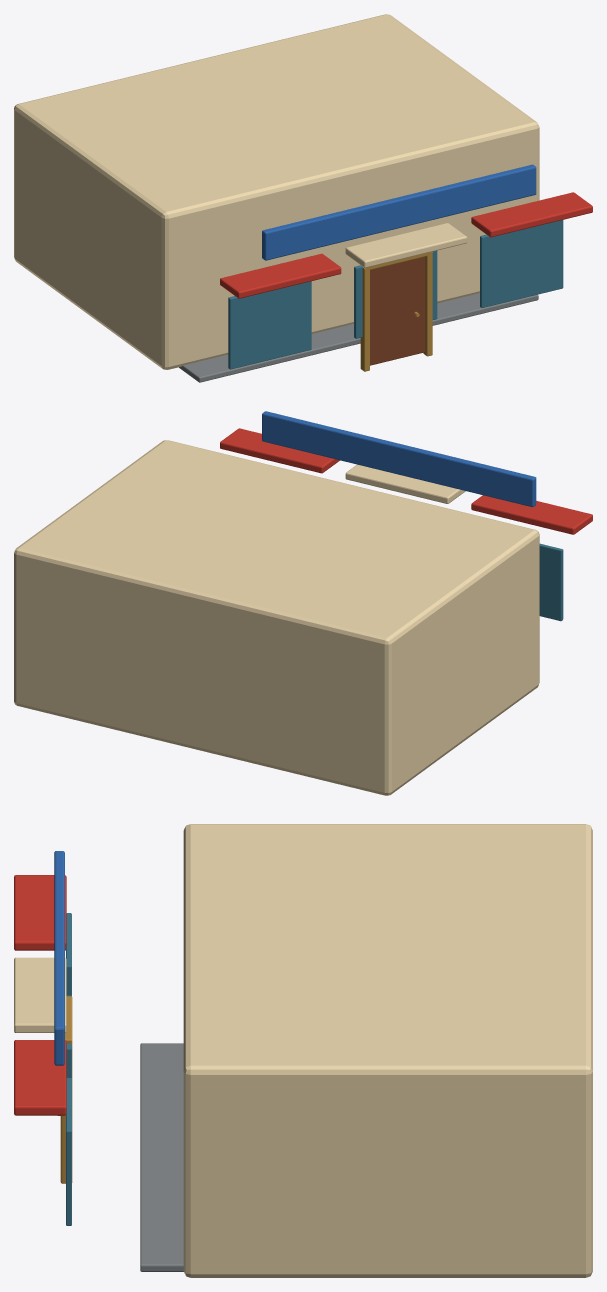
The model's file is neighborhood_convenience_store_a.glb.
3 views of the same model, one above another, from view 1: azimuth 30°, elevation 25°; view 2: azimuth 150°, elevation 25°; view 3: azimuth 270°, elevation 25° (orthographic). The views are drawn at different scales.
Parts seen in each view (by area): view 1: SET_Building, SET_SignBand, SET_Window_0, SET_Window_2, SET_Business_Door, SET_InteriorFloor, SET_Awning_1, SET_Awning_2, SET_Awning_0, SET_Window_1, SET_Business_Jamb_L, SET_Business_Jamb_R; view 2: SET_Building, SET_SignBand, SET_Awning_0, SET_Awning_2, SET_Awning_1, SET_Window_0; view 3: SET_Building, SET_InteriorFloor, SET_Awning_2, SET_Awning_0, SET_Awning_1, SET_SignBand, SET_Window_2.
Part boxes in pixels (x1,y1,x2,y2): SET_Building: (14,14,539,369); SET_SignBand: (262,164,536,260); SET_Window_0: (228,281,311,369); SET_Window_2: (480,220,563,307); SET_Business_Door: (370,257,425,365); SET_InteriorFloor: (179,293,538,382); SET_Awning_1: (345,223,467,267); SET_Awning_2: (471,192,592,237); SET_Awning_0: (220,253,341,298); SET_Window_1: (354,250,437,338); SET_Business_Jamb_L: (360,267,369,371); SET_Business_Jamb_R: (423,252,432,356); SET_Building: (14,440,539,795); SET_SignBand: (262,411,536,507); SET_Awning_0: (471,495,592,534); SET_Awning_2: (220,428,339,473); SET_Awning_1: (345,464,465,503); SET_Window_0: (539,543,563,621); SET_Building: (183,824,592,1277); SET_InteriorFloor: (140,1043,183,1271); SET_Awning_2: (14,1040,66,1115); SET_Awning_0: (14,875,66,950); SET_Awning_1: (14,957,66,1032); SET_SignBand: (54,851,64,1065); SET_Window_2: (66,1078,71,1225).
Size of what is drawn, in the model's own units: 10 by 4.2 by 9.9.
